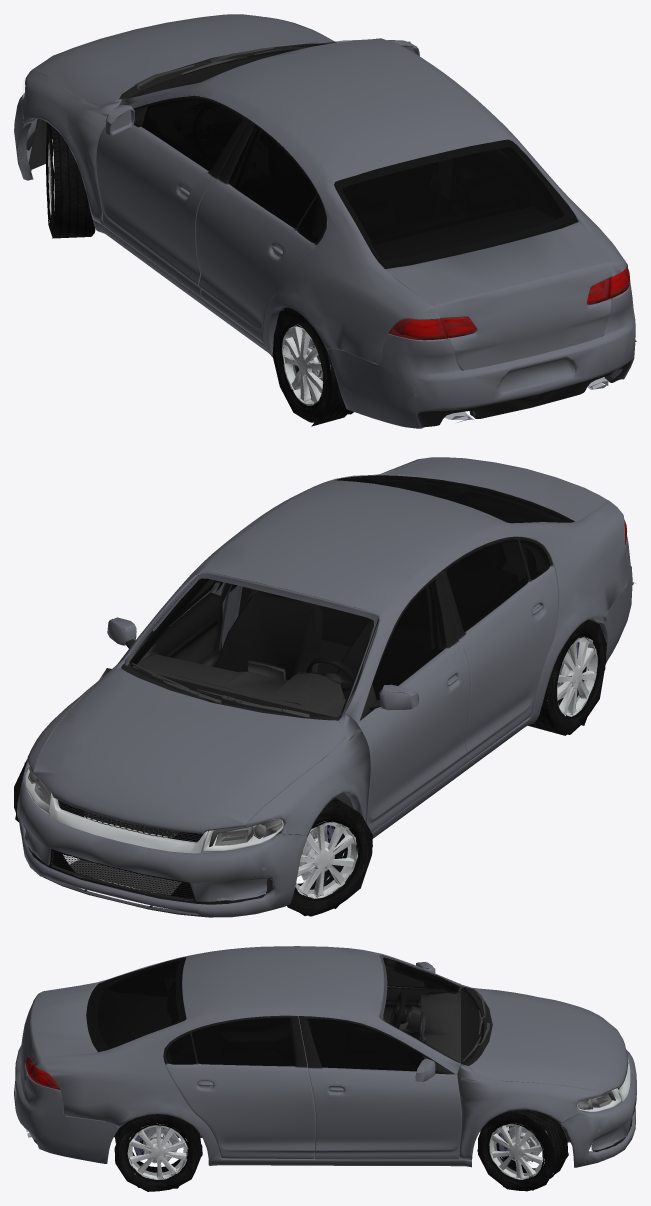
File: meridian.glb
3 renders of one model, top to bottom at view 1: azimuth 30°, elevation 25°; view 2: azimuth 150°, elevation 25°; view 3: azimuth 270°, elevation 25°, orthographic. The views are drawn at different scales.
Visible parts, largest first — view 1: body, door_FL, door_RL, wheel_RL, wheel_FL; view 2: body, door_FL, door_RL, wheel_FL, wheel_RL, door_FR, steering_wheel; view 3: body, door_FR, door_RR, wheel_FR, wheel_RR, door_FL, steering_wheel.
Boxes of the visible parts, x1=… form: body: x1=14, y1=14, x2=636, y2=428; door_FL: x1=96, y1=96, x2=249, y2=296; door_RL: x1=195, y1=120, x2=326, y2=342; wheel_RL: x1=272, y1=307, x2=353, y2=426; wheel_FL: x1=46, y1=122, x2=95, y2=238; body: x1=17, y1=457, x2=635, y2=917; door_FL: x1=357, y1=572, x2=470, y2=832; door_RL: x1=440, y1=536, x2=558, y2=763; wheel_FL: x1=287, y1=798, x2=372, y2=916; wheel_RL: x1=528, y1=619, x2=606, y2=735; door_FR: x1=140, y1=579, x2=222, y2=667; steering_wheel: x1=306, y1=657, x2=355, y2=692; body: x1=14, y1=946, x2=636, y2=1167; door_FR: x1=299, y1=1016, x2=461, y2=1159; door_RR: x1=163, y1=1015, x2=315, y2=1158; wheel_FR: x1=477, y1=1110, x2=568, y2=1191; wheel_RR: x1=114, y1=1114, x2=202, y2=1191; door_FL: x1=381, y1=968, x2=447, y2=1039; steering_wheel: x1=389, y1=992, x2=407, y2=1028.
Bounding box in the file's own units: 2.15 × 1.51 × 4.98.
Materials: 23 (11 with a texture image).
